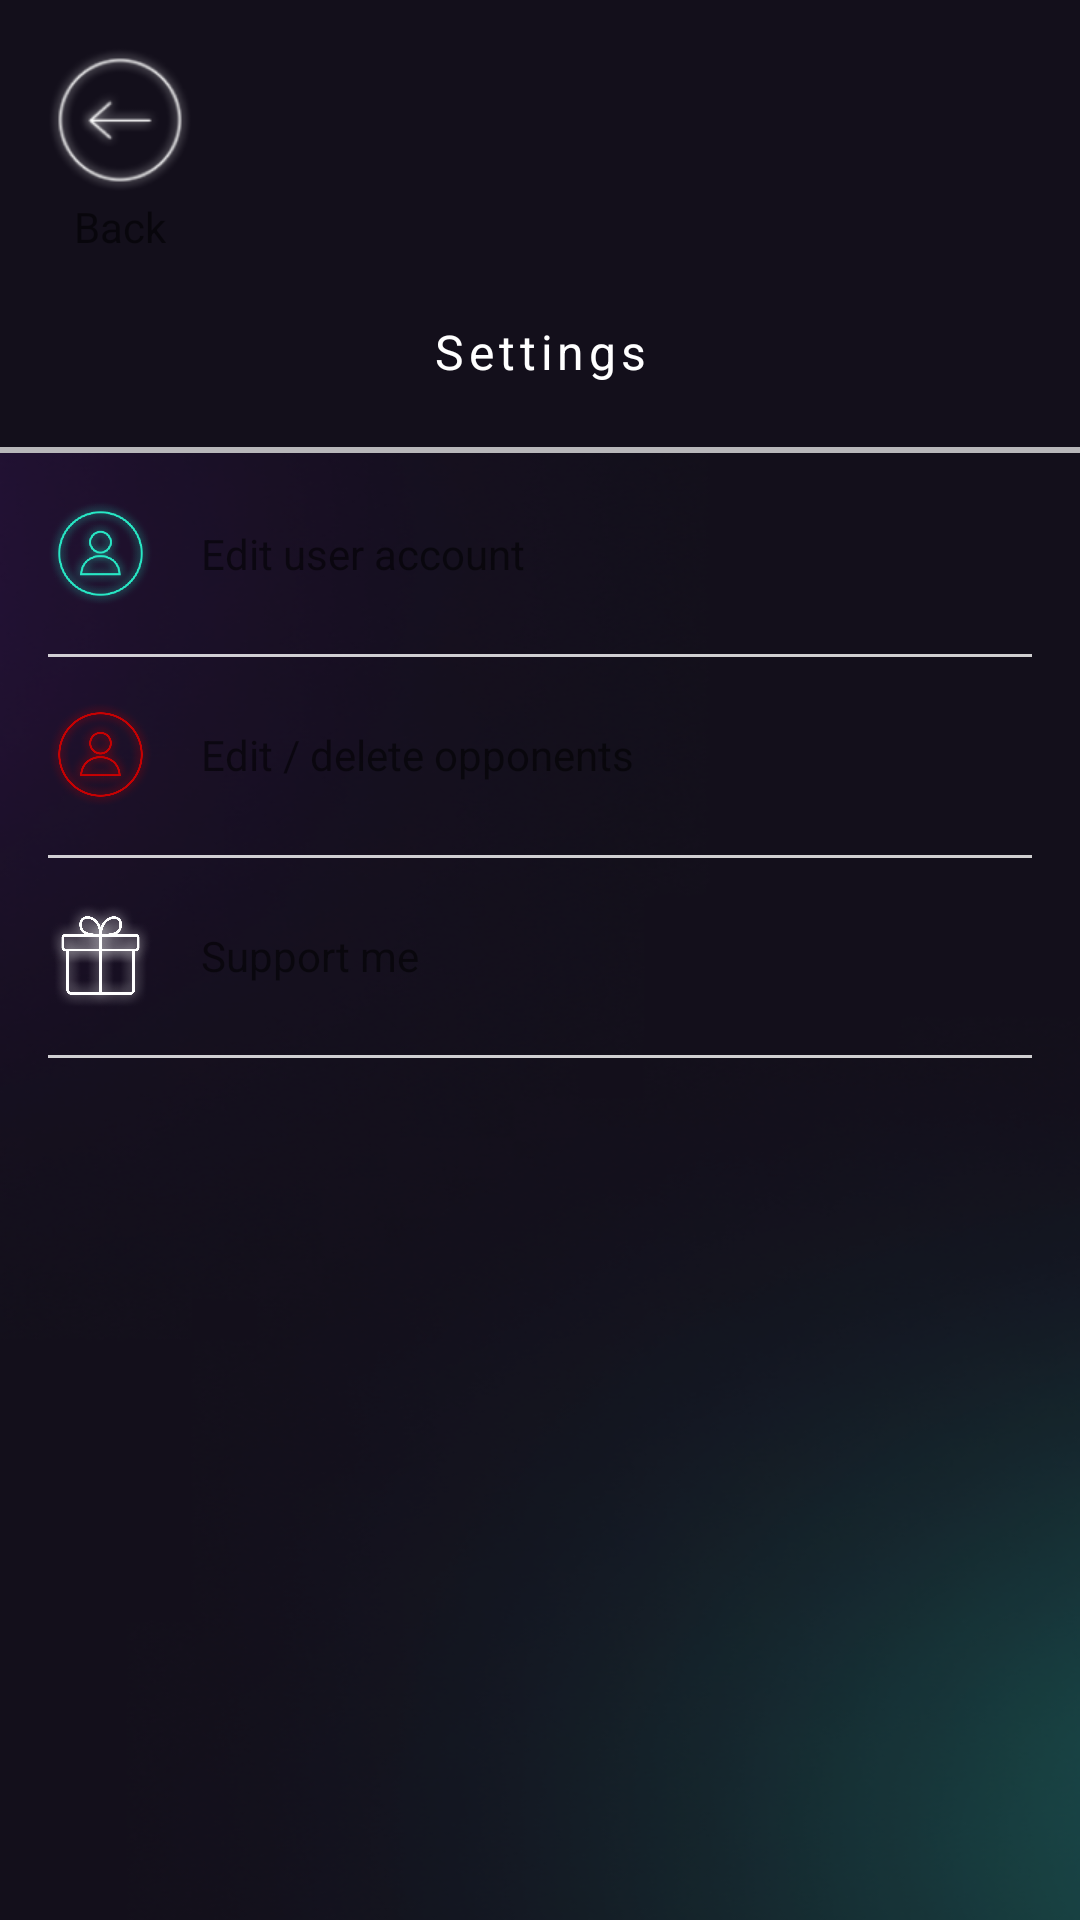

Point at icon controls on the screen. Image size 1080w x 1920h, points as point (x, y).
present: point (100, 956)
